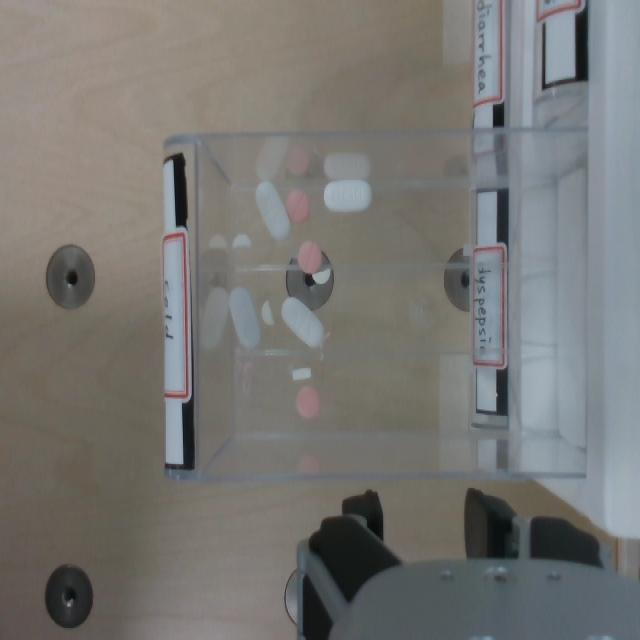amoxicle_tab: (281, 297, 324, 348), (255, 181, 289, 240), (229, 287, 260, 348), (324, 179, 371, 212)
panstar_tab: (298, 240, 322, 273), (286, 189, 309, 223), (296, 385, 319, 419)
sudafed_tab: (312, 267, 330, 284), (261, 300, 273, 324), (232, 233, 250, 248), (292, 368, 311, 380)
